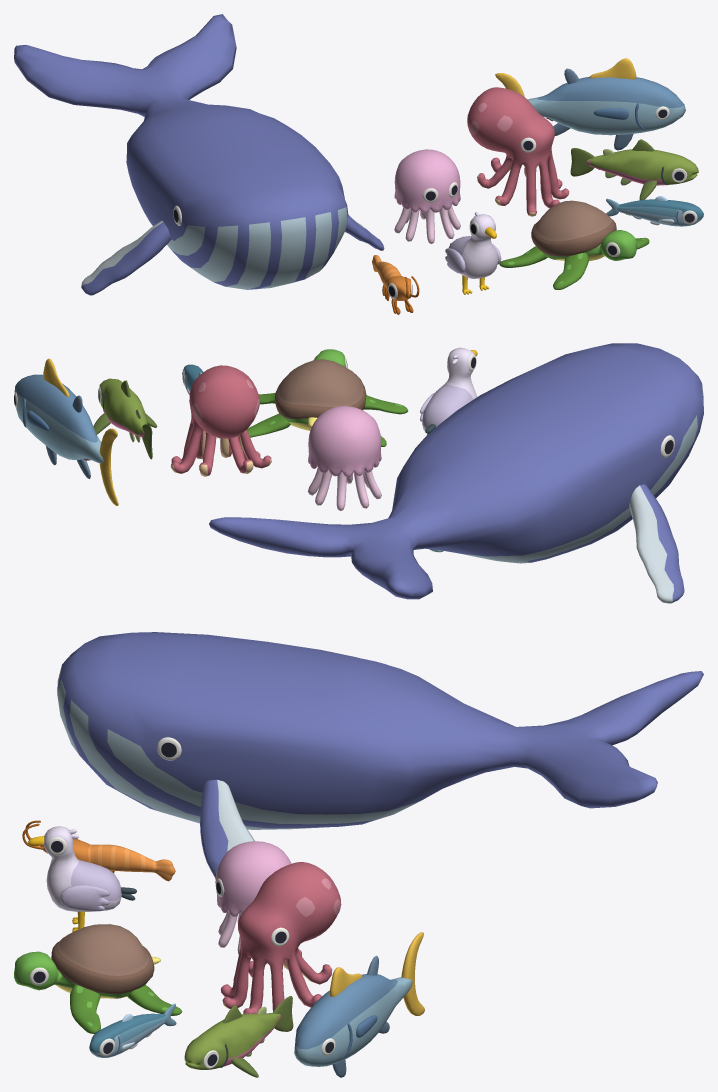
3 views of the same model, one above another, from view 1: azimuth 30°, elevation 25°; view 2: azimuth 150°, elevation 25°; view 3: azimuth 270°, elevation 25° (orthographic). The views are drawn at different scales.
Visible parts, largest first — view 1: huitugou_5174_02, huitugou_5174_04, huitugou_5174_09, huitugou_5174_03, huitugou_5174_01, huitugou_5174_07, huitugou_5174_05, huitugou_5174_06, huitugou_5174_08; view 2: huitugou_5174_02, huitugou_5174_09, huitugou_5174_04, huitugou_5174_03, huitugou_5174_01, huitugou_5174_05, huitugou_5174_07; view 3: huitugou_5174_02, huitugou_5174_09, huitugou_5174_03, huitugou_5174_04, huitugou_5174_05, huitugou_5174_07, huitugou_5174_01, huitugou_5174_08, huitugou_5174_06.
Boxes of the visible parts, x1=… form: huitugou_5174_02: x1=14, y1=14, x2=384, y2=295; huitugou_5174_04: x1=495, y1=58, x2=685, y2=150; huitugou_5174_09: x1=467, y1=87, x2=569, y2=216; huitugou_5174_03: x1=499, y1=200, x2=649, y2=289; huitugou_5174_01: x1=394, y1=149, x2=460, y2=243; huitugou_5174_07: x1=570, y1=139, x2=698, y2=200; huitugou_5174_05: x1=445, y1=212, x2=501, y2=294; huitugou_5174_06: x1=606, y1=196, x2=703, y2=226; huitugou_5174_08: x1=372, y1=255, x2=419, y2=314; huitugou_5174_02: x1=209, y1=343, x2=703, y2=603; huitugou_5174_09: x1=170, y1=365, x2=271, y2=476; huitugou_5174_04: x1=14, y1=358, x2=118, y2=505; huitugou_5174_03: x1=247, y1=349, x2=408, y2=446; huitugou_5174_01: x1=307, y1=406, x2=381, y2=510; huitugou_5174_05: x1=420, y1=347, x2=477, y2=435; huitugou_5174_07: x1=93, y1=378, x2=157, y2=459; huitugou_5174_02: x1=57, y1=632, x2=703, y2=878; huitugou_5174_09: x1=220, y1=862, x2=341, y2=1014; huitugou_5174_03: x1=14, y1=924, x2=182, y2=1033; huitugou_5174_04: x1=294, y1=932, x2=424, y2=1077; huitugou_5174_05: x1=28, y1=826, x2=136, y2=931; huitugou_5174_07: x1=184, y1=996, x2=293, y2=1077; huitugou_5174_01: x1=215, y1=841, x2=291, y2=954; huitugou_5174_08: x1=22, y1=820, x2=175, y2=881; huitugou_5174_06: x1=89, y1=1003, x2=176, y2=1057.
Size of the model in its own units: 708 by 155 by 576.
